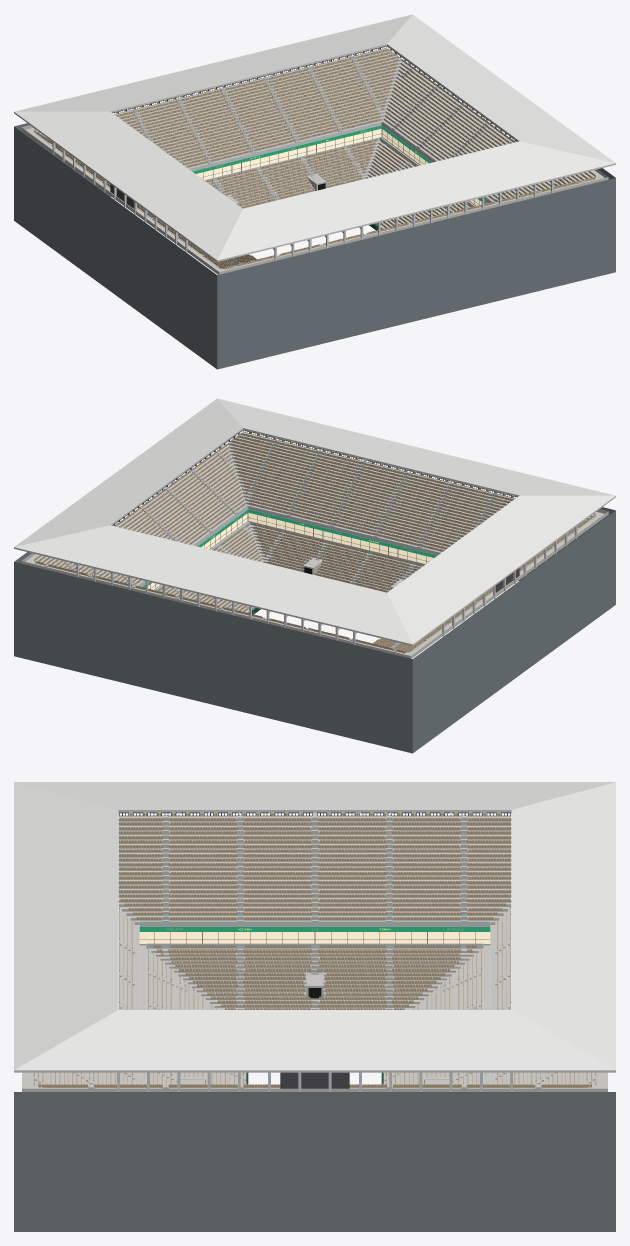
Rendered from Arena.fbx.
3 renders of one model, top to bottom at view 1: azimuth 30°, elevation 25°; view 2: azimuth 150°, elevation 25°; view 3: azimuth 270°, elevation 25°, orthographic. The views are drawn at different scales.
Visible parts, largest first — view 1: Fachada, Cobertura, Arquibancada, Assentos_Lado_2, Assentos_Lado_1, Estrutura_Cobertura, Camarotes_Vidro, Guarda_Corpo_Vidro, Faixa_LED, Assentos_Lado_0, Assentos_Lado_3, Refletores_Carcaca (+2 smaller); view 2: Fachada, Cobertura, Arquibancada, Assentos_Lado_0, Assentos_Lado_1, Estrutura_Cobertura, Camarotes_Vidro, Guarda_Corpo_Vidro, Faixa_LED, Assentos_Lado_2, Assentos_Lado_3, Refletores_Carcaca (+2 smaller); view 3: Cobertura, Fachada, Arquibancada, Assentos_Lado_3, Camarotes_Vidro, Estrutura_Cobertura, Guarda_Corpo_Vidro, Assentos_Lado_2, Assentos_Lado_0, Faixa_LED, Assentos_Lado_1, Corrimaos (+3 smaller).
Part boxes in pixels (x1,y1,x2,y2): Fachada: (14,123,615,369); Cobertura: (14,14,615,260); Arquibancada: (21,47,608,274); Assentos_Lado_2: (34,47,399,208); Assentos_Lado_1: (367,60,595,227); Estrutura_Cobertura: (14,44,615,261); Camarotes_Vidro: (196,128,481,205); Guarda_Corpo_Vidro: (189,122,490,264); Faixa_LED: (193,125,487,203); Assentos_Lado_0: (224,177,595,269); Assentos_Lado_3: (34,130,256,268); Refletores_Carcaca: (112,46,517,141); Fachada: (14,507,615,753); Cobertura: (14,398,615,644); Arquibancada: (21,431,608,658); Assentos_Lado_0: (230,431,594,592); Assentos_Lado_1: (34,444,262,611); Estrutura_Cobertura: (14,428,615,645); Camarotes_Vidro: (148,512,433,589); Guarda_Corpo_Vidro: (139,506,440,648); Faixa_LED: (142,509,436,587); Assentos_Lado_2: (35,561,405,653); Assentos_Lado_3: (373,514,596,652); Refletores_Carcaca: (112,430,517,525); Cobertura: (14,782,615,1070); Fachada: (14,1092,615,1231); Arquibancada: (22,812,607,1091); Assentos_Lado_3: (118,813,511,1009); Camarotes_Vidro: (139,932,490,943); Estrutura_Cobertura: (14,810,615,1091); Guarda_Corpo_Vidro: (139,922,490,948); Assentos_Lado_2: (386,905,596,1086); Assentos_Lado_0: (33,905,243,1086); Faixa_LED: (139,927,490,931); Assentos_Lado_1: (38,1084,591,1087); Corrimaos: (37,817,592,1085).
Size of what is drawn, in the model's own units: 128 by 36.88 by 113.
